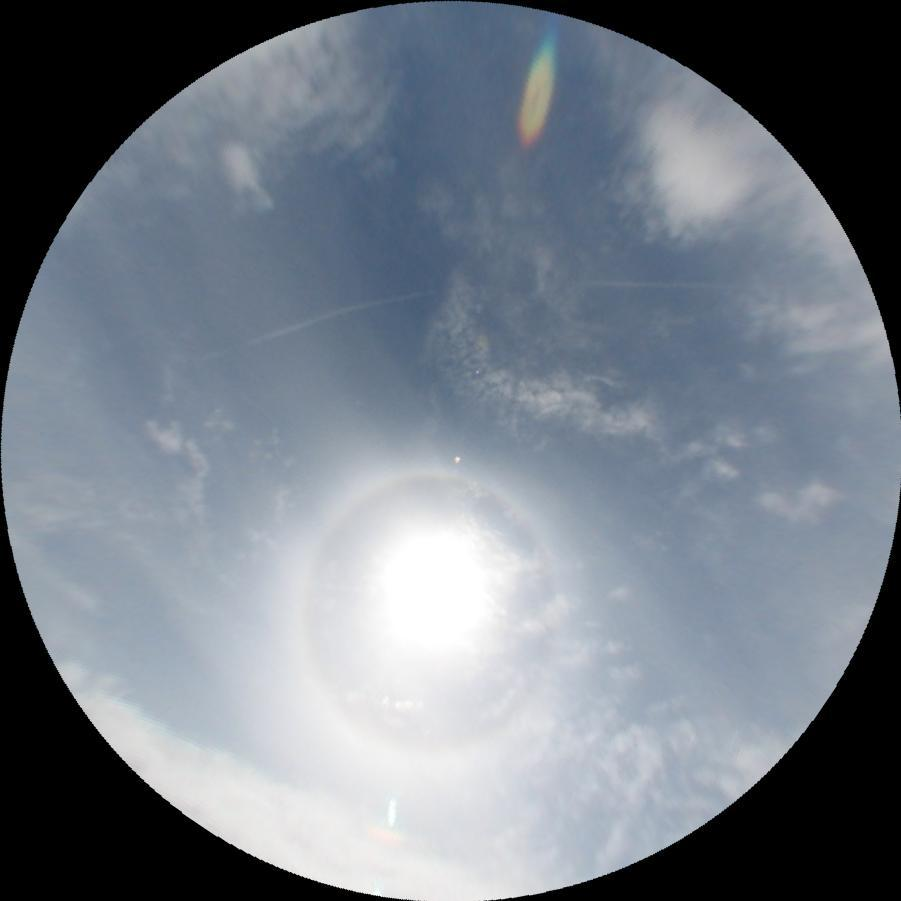contrail young: (189, 250, 737, 362)
sun: (373, 523, 497, 653)
